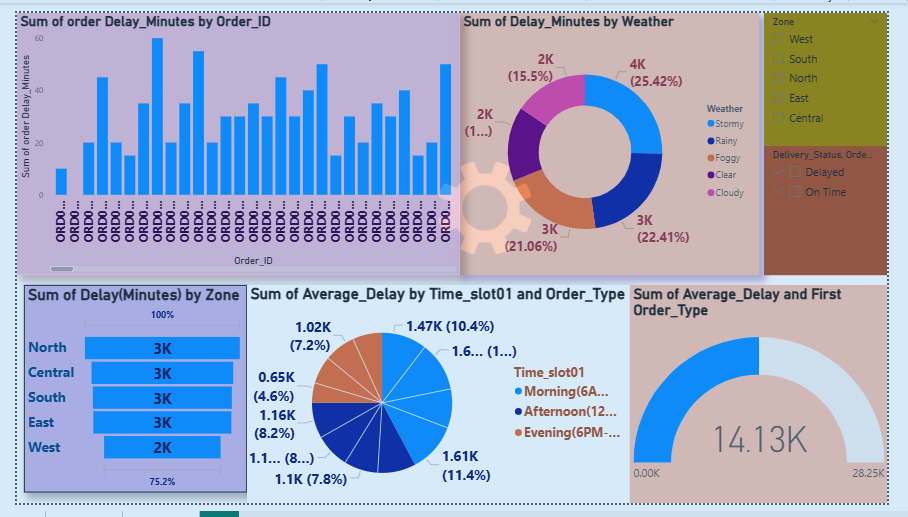

This screenshot's page, from the dashboard's own definition file:
{"tool":"powerbi","page":{"name":"Page 2","canvas":[1280,720],"ordinal":1},"visuals":[{"type":"donutChart","fields":{"Category":["realistic_delivery_dataset csv05.Weather"],"Y":["Sum(realistic_delivery_dataset csv05.Delay_Minutes)"]},"box":[651.5,0,439.7,385.3],"z":0},{"type":"clusteredColumnChart","fields":{"Y":["Sum(realistic_delivery_dataset csv05.order Delay_Minutes)"],"Category":["realistic_delivery_dataset csv05.Order_ID"]},"box":[0,0,651.5,385.3],"z":1000},{"type":"slicer","fields":{"Values":["realistic_delivery_dataset csv05.Zone"]},"box":[1098.7,0,181.4,195.8],"z":2000},{"type":"slicer","fields":{"Values":["realistic_delivery_dataset csv05.Delivery_Status","realistic_delivery_dataset csv05.Order_Type"]},"box":[1098.7,195.8,181.4,190.1],"z":3000},{"type":"funnel","fields":{"Y":["Sum(realistic_delivery_dataset csv05.Delay(Minutes))"],"Category":["realistic_delivery_dataset csv05.Zone"]},"box":[10.1,400.3,328.3,305.3],"z":4000},{"type":"pieChart","fields":{"Category":["realistic_delivery_dataset csv05.Time_slot01"],"Y":["Sum(realistic_delivery_dataset csv05.Average_Delay)"],"Series":["realistic_delivery_dataset csv05.Order_Type"]},"box":[338.2,400,563.2,320.6],"z":6000},{"type":"gauge","fields":{"Y":["Sum(realistic_delivery_dataset csv05.Average_Delay)"]},"box":[901.5,400,379.4,320.6],"z":6001}]}

Visuals, with their boxes in screenshot pixels (x1, y1, x2, y2), scaled from the page's 1280x720 canvas onto the 908x517 screenshot:
donutChart - realistic_delivery_dataset csv05.Weather x Sum(realistic_delivery_dataset csv05.Delay_Minutes): {"left": 462, "top": 0, "right": 774, "bottom": 277}
clusteredColumnChart - Sum(realistic_delivery_dataset csv05.order Delay_Minutes) x realistic_delivery_dataset csv05.Order_ID: {"left": 0, "top": 0, "right": 462, "bottom": 277}
slicer - realistic_delivery_dataset csv05.Zone: {"left": 779, "top": 0, "right": 907, "bottom": 141}
slicer - realistic_delivery_dataset csv05.Delivery_Status x realistic_delivery_dataset csv05.Order_Type: {"left": 779, "top": 141, "right": 907, "bottom": 277}
funnel - Sum(realistic_delivery_dataset csv05.Delay(Minutes)) x realistic_delivery_dataset csv05.Zone: {"left": 7, "top": 287, "right": 240, "bottom": 507}
pieChart - realistic_delivery_dataset csv05.Time_slot01 x Sum(realistic_delivery_dataset csv05.Average_Delay): {"left": 240, "top": 287, "right": 639, "bottom": 516}
gauge - Sum(realistic_delivery_dataset csv05.Average_Delay): {"left": 640, "top": 287, "right": 907, "bottom": 516}
